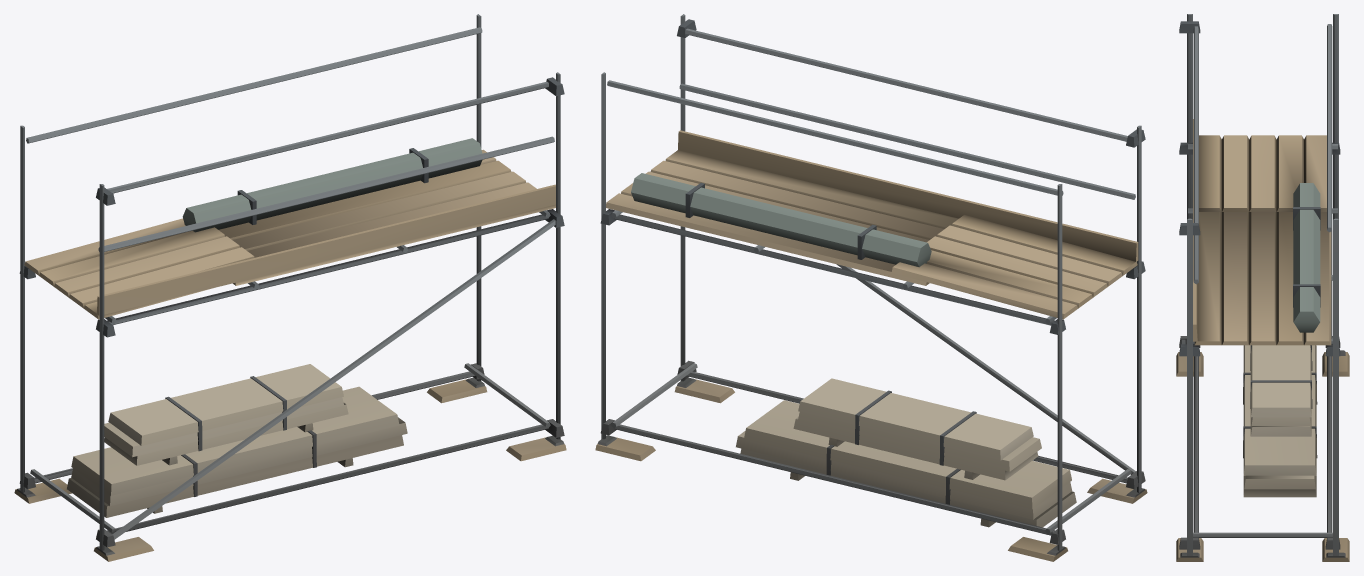
The model's file is scaffold.glb.
The picture shows the model from 3 angles, left to right: view 1: azimuth 30°, elevation 25°; view 2: azimuth 150°, elevation 25°; view 3: azimuth 270°, elevation 25°; orthographic projection. The views are drawn at different scales.
Visible parts, largest first — view 1: scaffold; view 2: scaffold; view 3: scaffold.
Part boxes in pixels (x1=…): scaffold: x1=14, y1=14, x2=566, y2=561; scaffold: x1=595, y1=14, x2=1147, y2=561; scaffold: x1=1176, y1=14, x2=1349, y2=561.
Bounding box in the file's own units: 4 × 3.1 × 1.42.
